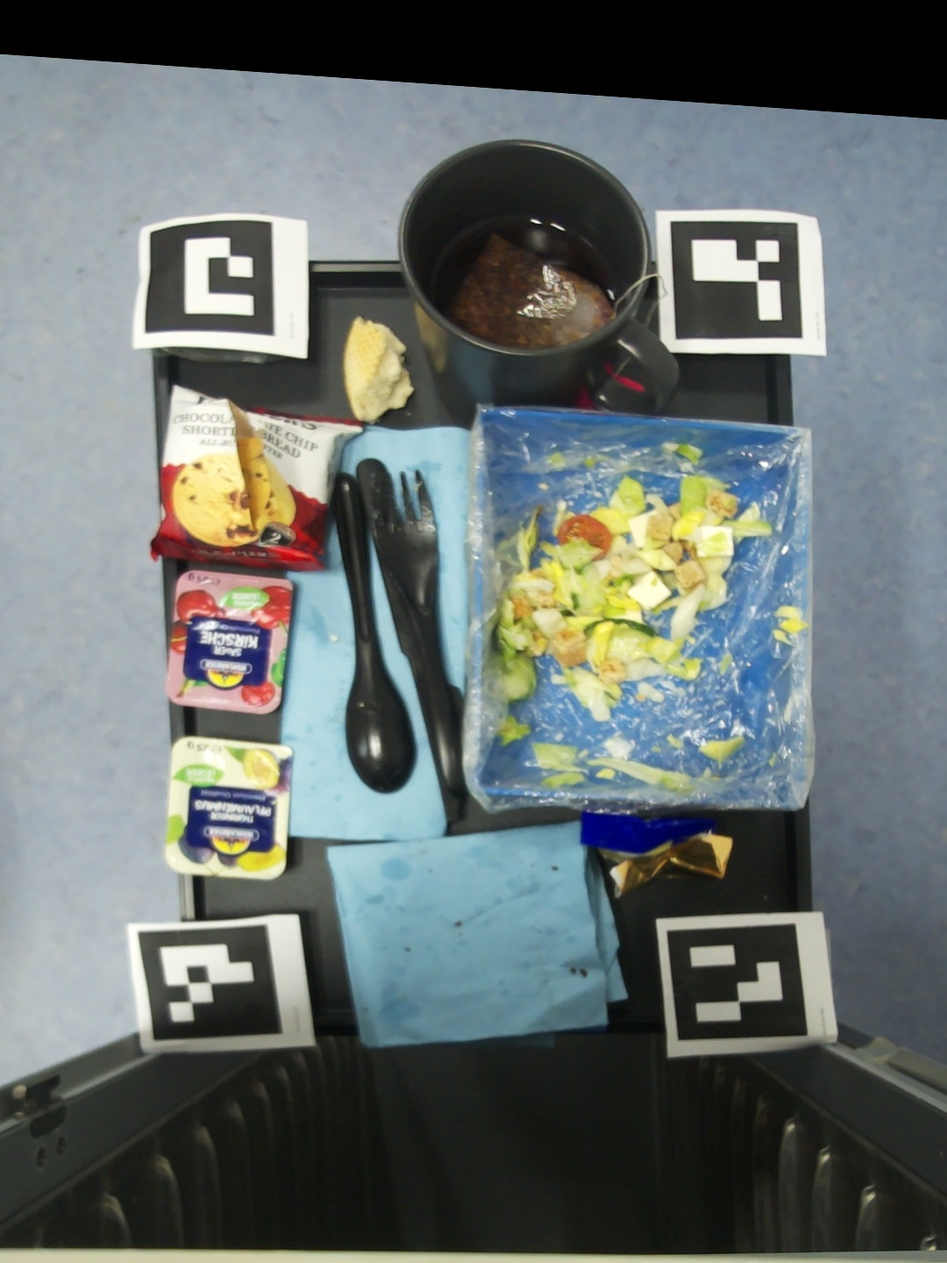bread_roll: (344, 317, 414, 425)
butter: (579, 812, 732, 898)
cherry_jam: (167, 570, 294, 715)
cookie: (151, 381, 364, 571)
plum_jam: (166, 736, 293, 881)
salad_main: (496, 476, 772, 723), (587, 750, 692, 791), (532, 743, 590, 790), (700, 736, 745, 761), (774, 605, 810, 635), (497, 715, 530, 746), (661, 442, 704, 463), (636, 682, 663, 704), (659, 680, 686, 696), (699, 766, 719, 783), (772, 630, 791, 645), (666, 735, 685, 749), (720, 654, 731, 675), (551, 453, 564, 466), (768, 752, 776, 767), (578, 749, 590, 758), (584, 458, 595, 466), (651, 748, 662, 754)
tea_cup: (399, 139, 679, 429)
